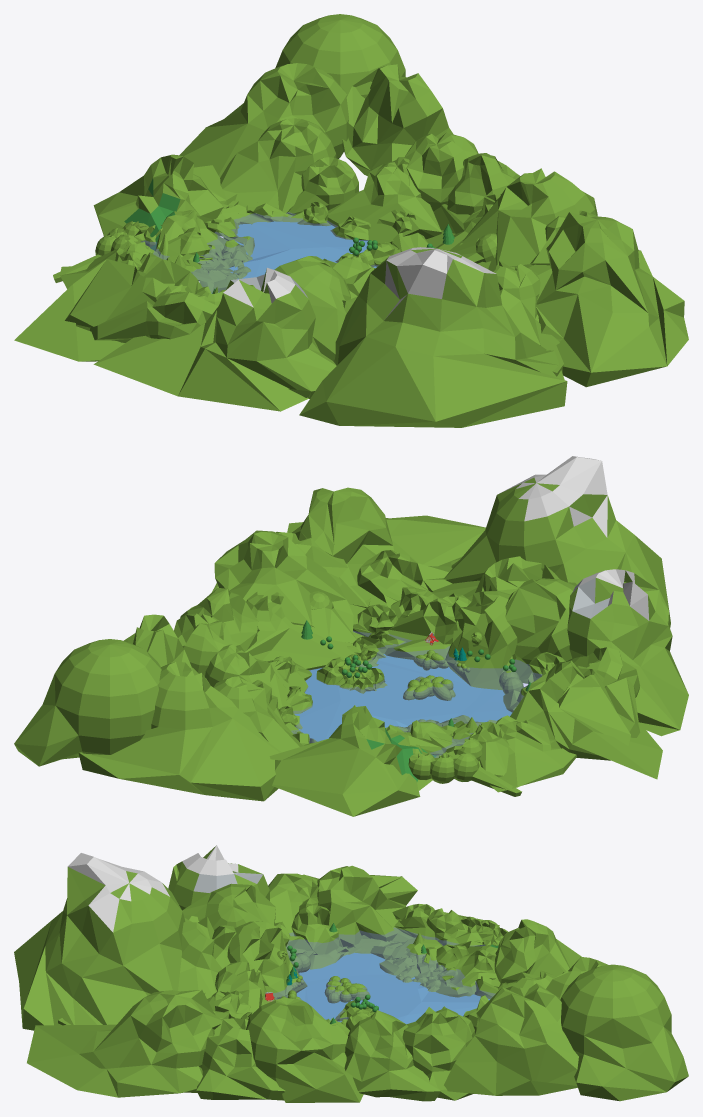
3 views of the same model, one above another, from view 1: azimuth 30°, elevation 25°; view 2: azimuth 150°, elevation 25°; view 3: azimuth 270°, elevation 25° (orthographic). The views are drawn at different scales.
Visible parts, largest first — view 1: node_MeshObject1127420928-PolyPaper9, node_MeshObject555341824-PolyPaper9, node_MeshObject1699500032-PolyGlass24, node_MeshObject-1451309056-PolyPaper10; view 2: node_MeshObject1127420928-PolyPaper9, node_MeshObject555341824-PolyPaper9, node_MeshObject1699500032-PolyGlass24, node_MeshObject-1451309056-PolyPaper10, node_MeshObject-2023388160-PolyPaper9; view 3: node_MeshObject1127420928-PolyPaper9, node_MeshObject555341824-PolyPaper9, node_MeshObject1699500032-PolyGlass24, node_MeshObject-2023388160-PolyPaper9, node_MeshObject-1451309056-PolyPaper10.
Boxes of the visible parts, x1,y1,x2,y2 form: node_MeshObject1127420928-PolyPaper9: [53, 14, 688, 427]; node_MeshObject555341824-PolyPaper9: [14, 154, 496, 361]; node_MeshObject1699500032-PolyGlass24: [141, 191, 377, 292]; node_MeshObject-1451309056-PolyPaper10: [193, 224, 496, 293]; node_MeshObject1127420928-PolyPaper9: [14, 477, 688, 801]; node_MeshObject555341824-PolyPaper9: [252, 456, 662, 816]; node_MeshObject1699500032-PolyGlass24: [291, 631, 541, 757]; node_MeshObject-1451309056-PolyPaper10: [295, 591, 530, 726]; node_MeshObject-2023388160-PolyPaper9: [403, 649, 514, 700]; node_MeshObject1127420928-PolyPaper9: [14, 846, 688, 1102]; node_MeshObject555341824-PolyPaper9: [68, 845, 581, 1034]; node_MeshObject1699500032-PolyGlass24: [273, 927, 494, 1023]; node_MeshObject-2023388160-PolyPaper9: [280, 945, 370, 1003]; node_MeshObject-1451309056-PolyPaper10: [265, 923, 426, 1024].
Size of the model in its own units: 7.84 by 2.23 by 9.84.
